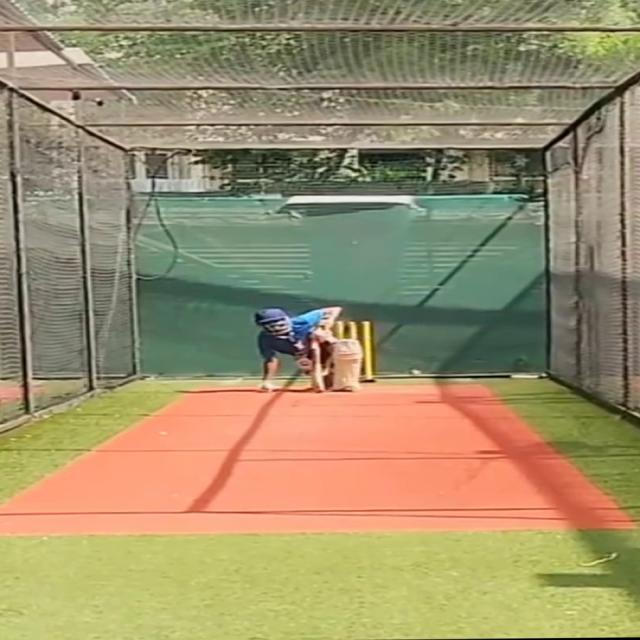stump: (344, 319, 373, 382)
